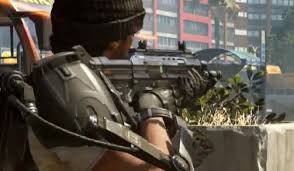Gun: (113, 41, 223, 101)
